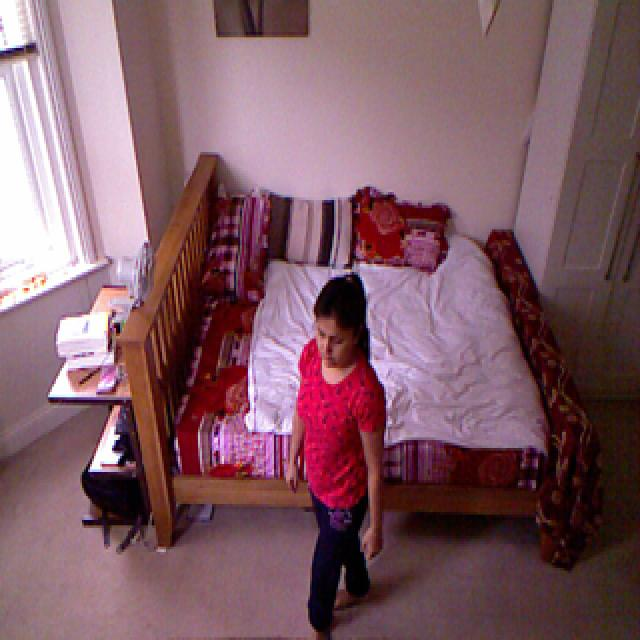standing: (291, 262, 386, 640)
